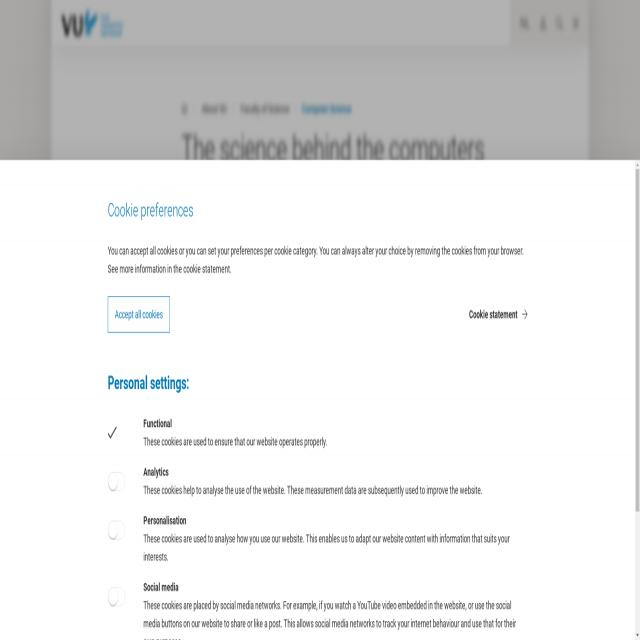button: (57, 0, 127, 42), (108, 296, 170, 332)
field: (108, 470, 125, 492), (107, 589, 125, 609), (108, 521, 125, 540)
